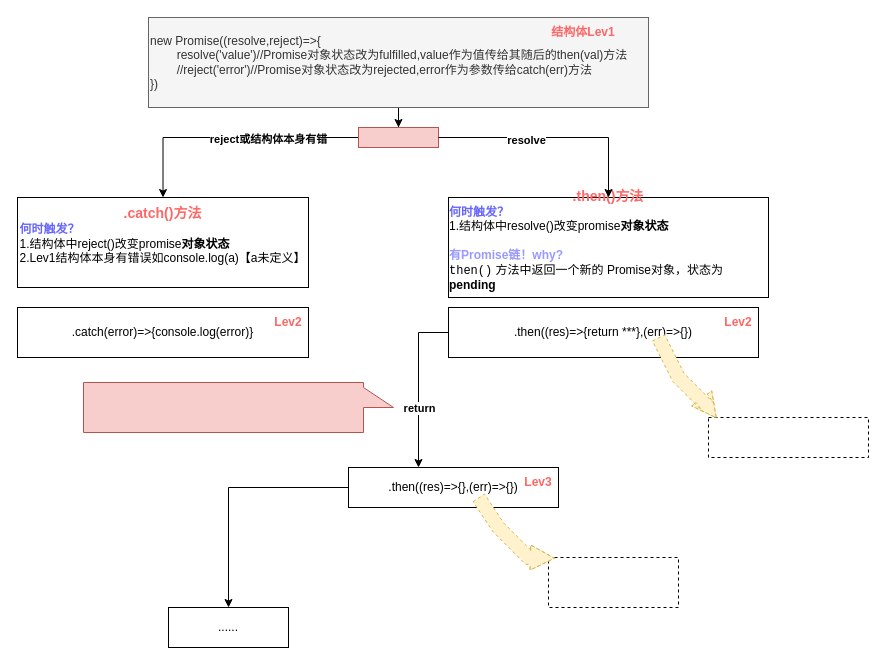
Image size: 886x665. Some labels were removed from this diagram. Here are the shapes that lost their labels. From the top down, the centre of each, then its label:
At (x=398, y=137): "常见方法".
At (x=238, y=407): "return语句将此promise对象的状态改为 fulfilled 且return值作为参数传递给其随后的then()方法".
At (x=788, y=437): "何时触发？ Lev2结构体本身有错误".
At (x=613, y=582): "何时触发？ Lev3结构体本身有错误".
